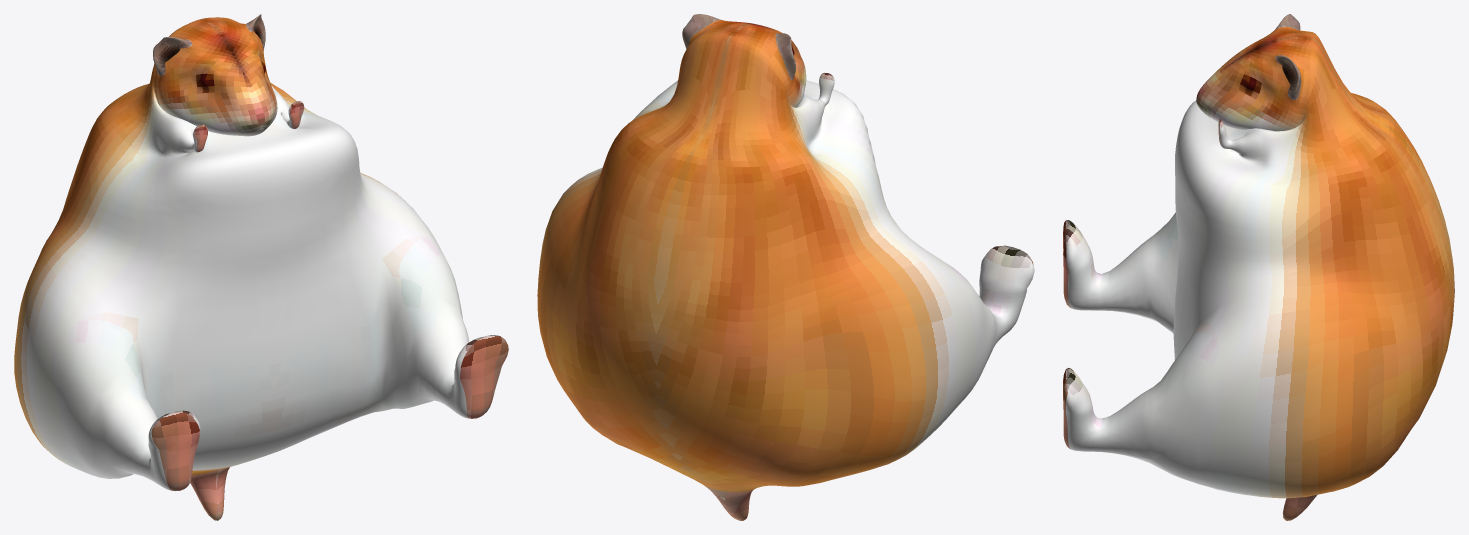
File: fat_hamsterfix.fbx
3 views of the same model, side by side, from view 1: azimuth 30°, elevation 25°; view 2: azimuth 150°, elevation 25°; view 3: azimuth 270°, elevation 25° (orthographic). The views are drawn at different scales.
Visible parts, largest first — view 1: Hamster; view 2: Hamster; view 3: Hamster.
Boxes of the visible parts, <box> form: Hamster: <box>14,14,508,520</box>; Hamster: <box>537,14,1034,520</box>; Hamster: <box>1063,14,1454,520</box>.
Size of the model in its own units: 5198 by 6163 by 4533.
